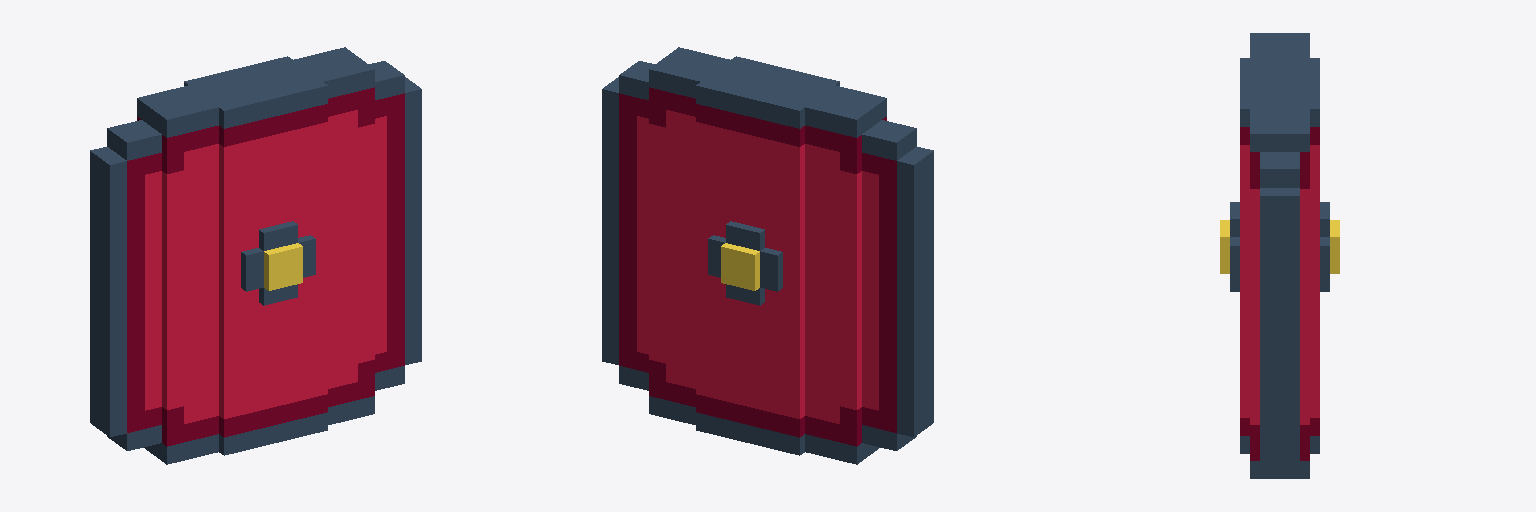
The model's file is shield1.obj.
3 views of the same model, side by side, from view 1: azimuth 30°, elevation 25°; view 2: azimuth 150°, elevation 25°; view 3: azimuth 270°, elevation 25° (orthographic).
Bounding box in the file's own units: 18 × 19 × 6.